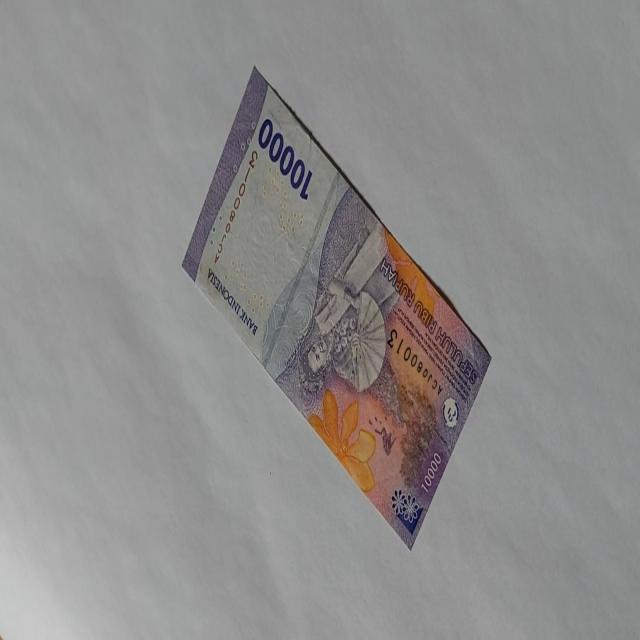sepuluh ribu rupiah: (181, 64, 493, 551), (256, 115, 314, 201), (205, 265, 259, 337)
